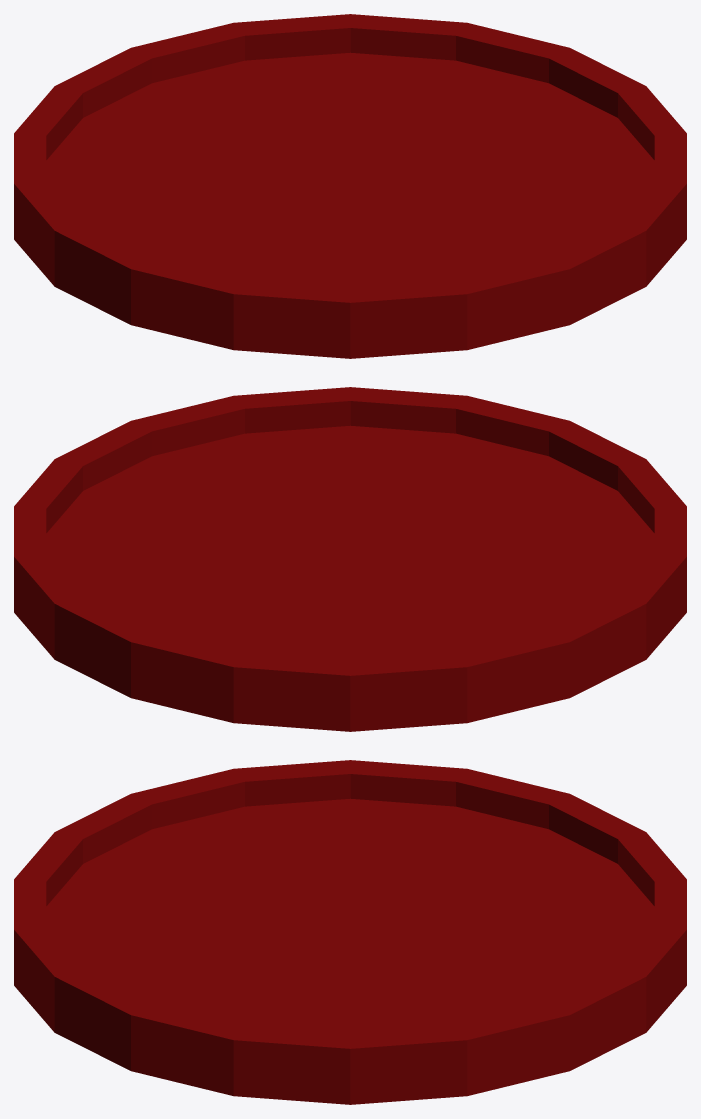
The model's file is bad_coin.fbx.
The picture shows the model from 3 angles, top to bottom: view 1: azimuth 30°, elevation 25°; view 2: azimuth 150°, elevation 25°; view 3: azimuth 270°, elevation 25°; orthographic projection.
Visible parts, largest first — view 1: pCylinder1; view 2: pCylinder1; view 3: pCylinder1.
Part boxes in pixels (bbox=[...]): pCylinder1: bbox=[14, 14, 686, 358]; pCylinder1: bbox=[14, 387, 686, 731]; pCylinder1: bbox=[14, 760, 686, 1104].
Size of the model in its own units: 8.12 by 0.7345 by 8.
